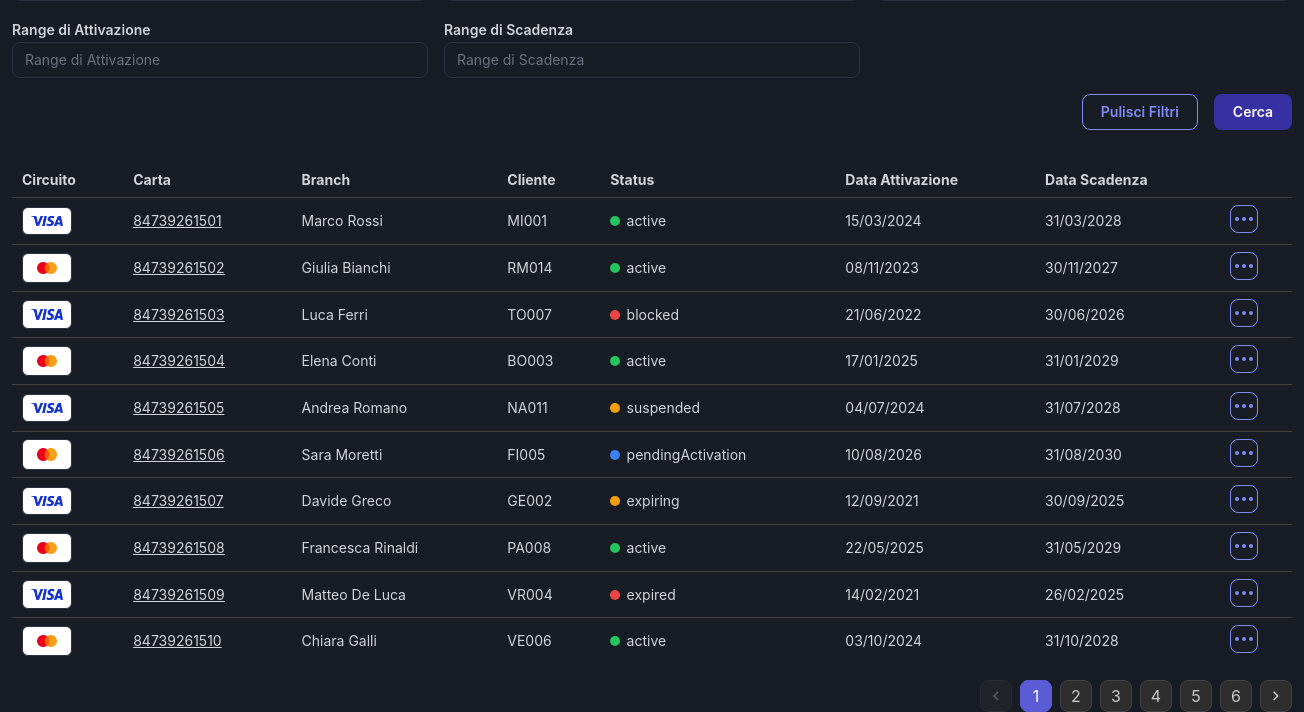
DashboardPage › changes page and loads the corresponding cards
This screenshot has width=1304, height=712.
(page scrolled)
Expected: the link "84739261501" is shown, [133,212,222,229]
Expected: the link "84739261510" is shown, [133,632,222,650]
Step 1. Click the button "2" → (1076, 696), box [1060,680,1092,711]
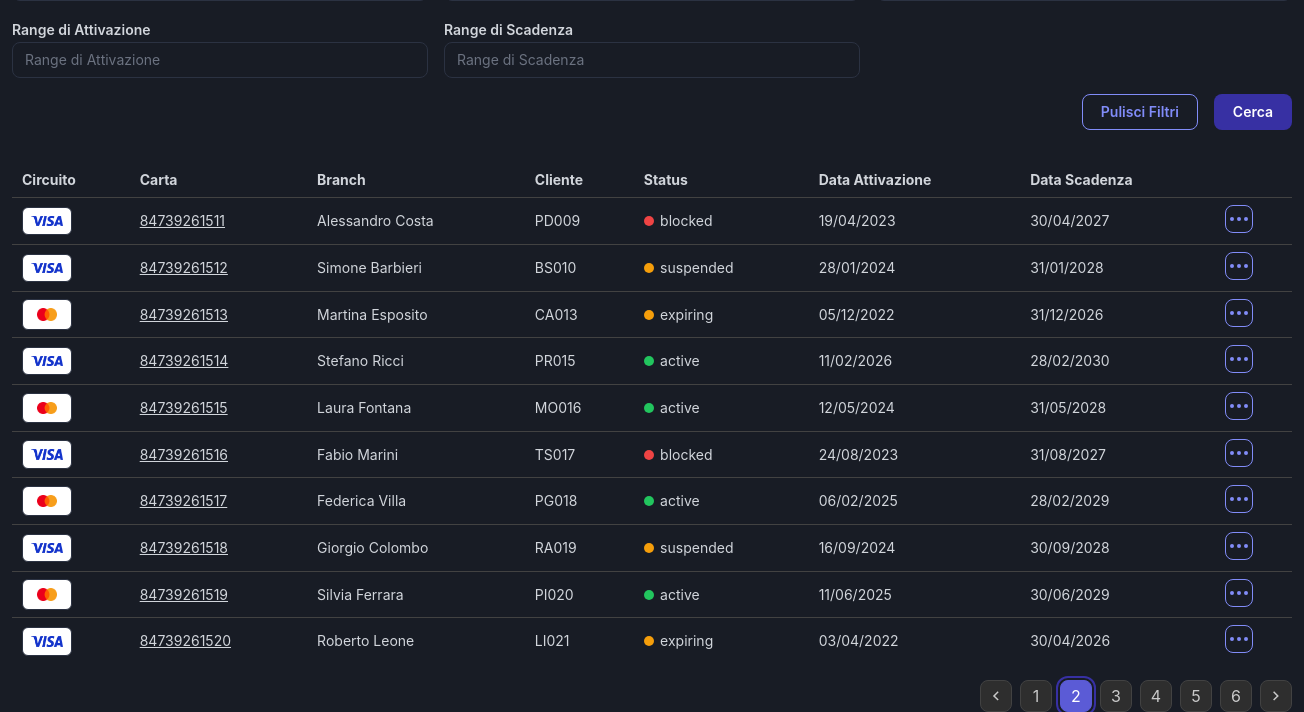
Result: the link "84739261511" is shown at [140,212,225,229]
Result: the link "84739261515" is shown at [140,399,228,416]
Result: the link "84739261501" is gone
